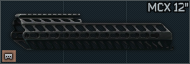MCX 12 inch KeyMod handguard: (0, 0, 190, 64)
